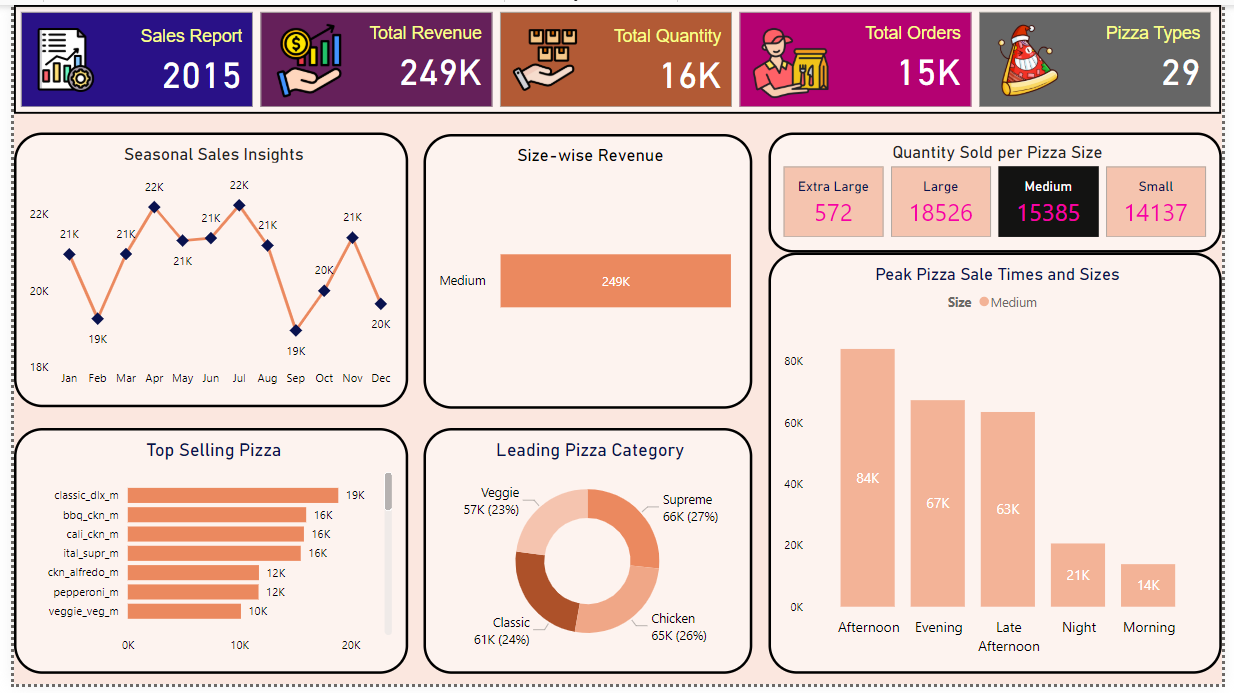

The dashboard page shown, as its layout file describes it:
{"tool":"powerbi","page":{"name":"Pizza Dashboard","canvas":[1280,720],"ordinal":0},"visuals":[{"type":"donutChart","title":"Leading Pizza Category","fields":{"Y":["Sum(order_details.Sales cost)"],"Category":["order_details.Category"]},"box":[440.6,448.6,332.4,260.9],"z":0},{"type":"clusteredBarChart","title":"Top Selling Pizza","fields":{"Y":["Sum(order_details.Sales cost)"],"Category":["order_details.pizza_id"]},"box":[12.7,448.6,418.3,260.9],"z":1000},{"type":"columnChart","title":"Peak Pizza Sales Times and Sizes","fields":{"Category":["order_details.TimeCategory"],"Series":["order_details.Size"],"Y":["Sum(order_details.Revenue Collection)"]},"box":[786.2,261,479.8,448.6],"z":2000},{"type":"cardVisual","fields":{"Data":["Measures (2).Sales Report","Measures (2).Total Revenue","Measures (2).Total Quantity","Measures (2).Total Orders","Measures (2).Pizza Types"]},"box":[0,0,1280.1,115.7],"z":3000},{"type":"advancedSlicerVisual","title":"Quantity Sold per Pizza Size","fields":{"Values":["order_details.Size"]},"box":[786.2,128.2,479.8,125],"z":4000},{"type":"lineChart","title":"Seasonal Sales Insights","fields":{"Category":["order_details.Monthno"],"Y":["Sum(order_details.Revenue Collection)"]},"box":[12.7,128.8,418.3,308.6],"z":5000},{"type":"funnel","title":"Size-wise Revenue","fields":{"Y":["Sum(order_details.Revenue Collection)"],"Category":["order_details.Size"]},"box":[440.6,128.8,332.4,308.6],"z":6000}]}

Visuals, with their boxes in screenshot pixels (x1, y1, x2, y2), scaled from the page's 1280x720 canvas onto the 1234x693 screenshot:
"Leading Pizza Category" donutChart: locate(425, 432, 745, 683)
"Top Selling Pizza" clusteredBarChart: locate(12, 432, 416, 683)
"Peak Pizza Sales Times and Sizes" columnChart: locate(758, 251, 1221, 683)
cardVisual - Measures (2).Sales Report x Measures (2).Total Revenue: locate(0, 0, 1233, 111)
"Quantity Sold per Pizza Size" advancedSlicerVisual: locate(758, 123, 1221, 244)
"Seasonal Sales Insights" lineChart: locate(12, 124, 416, 421)
"Size-wise Revenue" funnel: locate(425, 124, 745, 421)
